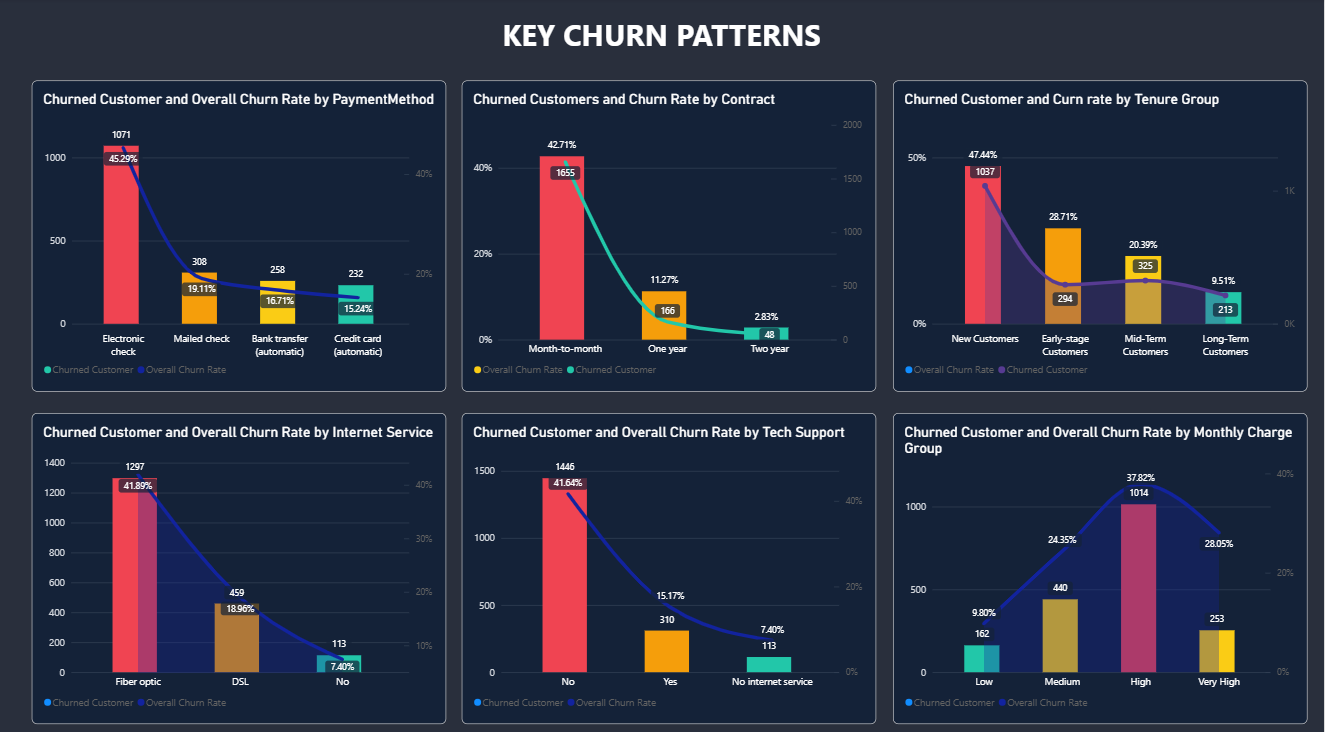

Layout of this report page (visuals, bound fields, positions):
{"tool":"powerbi","page":{"name":"Churn Drivers","canvas":[1920,1080],"ordinal":1},"visuals":[{"type":"lineStackedColumnComboChart","fields":{"Category":["customer_churn_cleaned.PaymentMethod"],"Y":["customer_churn_cleaned.Churned Customer"],"Y2":["customer_churn_cleaned.Overall Churn Rate"]},"box":[48,120,600,450],"z":0},{"type":"lineClusteredColumnComboChart","title":"Churned Customers and Churn Rate by Contract","fields":{"Category":["customer_churn_cleaned.Contract"],"Y":["customer_churn_cleaned.Overall Churn Rate"],"Y2":["customer_churn_cleaned.Churned Customer"]},"box":[672,120,600,450],"z":1000},{"type":"lineStackedColumnComboChart","title":"Churned Customer and Curn rate by Tenure Group","fields":{"Category":["customer_churn_cleaned.Tenure Group"],"Y":["customer_churn_cleaned.Overall Churn Rate"],"Y2":["customer_churn_cleaned.Churned Customer"]},"box":[1296,120,600,450],"z":2000},{"type":"lineClusteredColumnComboChart","title":"Churned Customer and Overall Churn Rate by Internet Service","fields":{"Category":["customer_churn_cleaned.InternetService"],"Y":["customer_churn_cleaned.Churned Customer"],"Y2":["customer_churn_cleaned.Overall Churn Rate"]},"box":[48,600,600,450],"z":3000},{"type":"lineStackedColumnComboChart","title":"Churned Customer and Overall Churn Rate by Tech Support","fields":{"Category":["customer_churn_cleaned.TechSupport"],"Y":["customer_churn_cleaned.Churned Customer"],"Y2":["customer_churn_cleaned.Overall Churn Rate"]},"box":[672,600,600,450],"z":4000},{"type":"lineClusteredColumnComboChart","fields":{"Category":["customer_churn_cleaned.Monthly Charge Group"],"Y":["customer_churn_cleaned.Churned Customer"],"Y2":["customer_churn_cleaned.Overall Churn Rate"]},"box":[1296,600,600,450],"z":5000},{"type":"textbox","box":[48,24,1824,72],"z":6000}]}

Visuals, with their boxes in screenshot pixels (x1, y1, x2, y2), scaled from the page's 1920x1080 canvas onto the 1325x732 screenshot:
lineStackedColumnComboChart - customer_churn_cleaned.PaymentMethod x customer_churn_cleaned.Churned Customer: <box>33,81,447,386</box>
"Churned Customers and Churn Rate by Contract" lineClusteredColumnComboChart: <box>464,81,878,386</box>
"Churned Customer and Curn rate by Tenure Group" lineStackedColumnComboChart: <box>894,81,1308,386</box>
"Churned Customer and Overall Churn Rate by Internet Service" lineClusteredColumnComboChart: <box>33,407,447,712</box>
"Churned Customer and Overall Churn Rate by Tech Support" lineStackedColumnComboChart: <box>464,407,878,712</box>
lineClusteredColumnComboChart - customer_churn_cleaned.Monthly Charge Group x customer_churn_cleaned.Churned Customer: <box>894,407,1308,712</box>
textbox: <box>33,16,1292,65</box>
